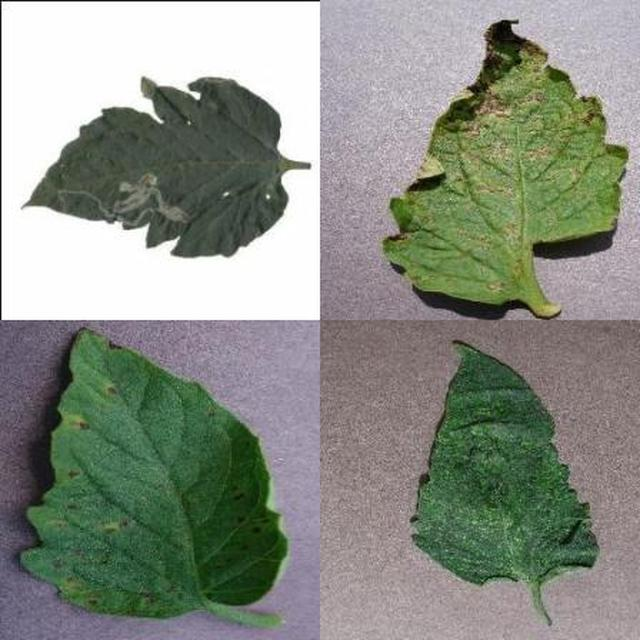Leaf Miner: (221, 232, 640, 640)
